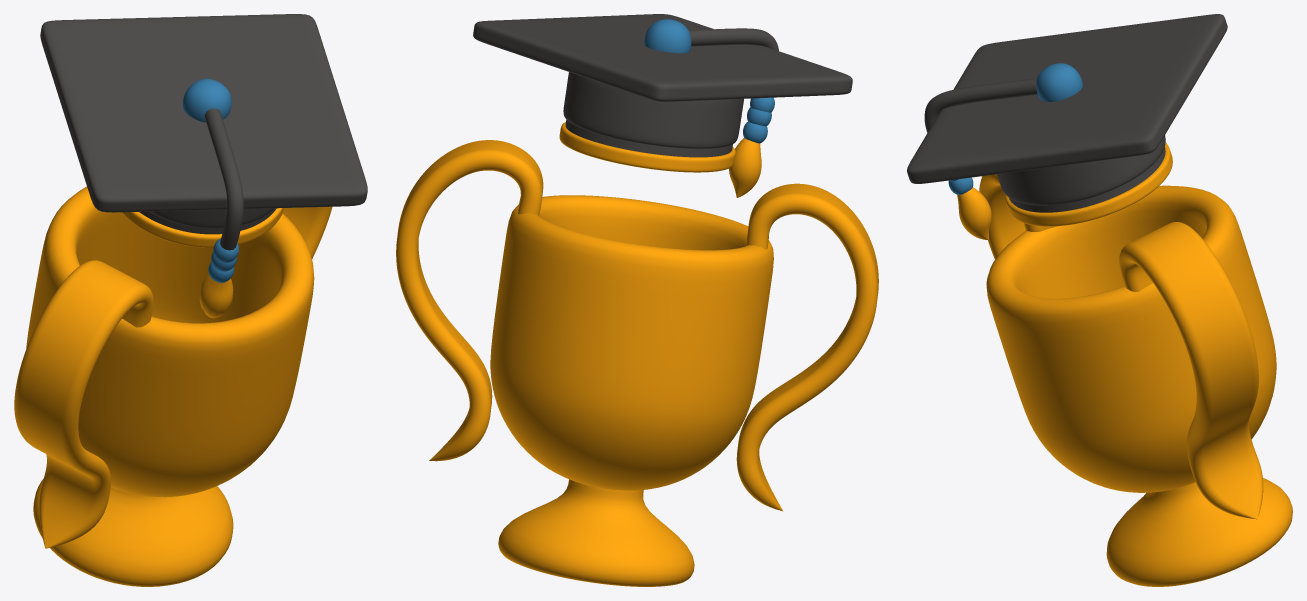
File: Graduatin Trophy.glb
3 views of the same model, side by side, from view 1: azimuth 30°, elevation 25°; view 2: azimuth 150°, elevation 25°; view 3: azimuth 270°, elevation 25° (orthographic). The views are drawn at different scales.
Visible parts, largest first — view 1: Circle.035, Plane.025, NurbsPath.012, Circle.036, NurbsPath.027, Circle.050, Cube.128, Circle.049, NurbsPath.028, Circle.048; view 2: Circle.035, NurbsPath.012, Plane.025, Circle.036, Circle.049, Circle.050, Circle.048, NurbsPath.027, NurbsPath.028, Cube.128; view 3: Circle.035, Plane.025, NurbsPath.012, Circle.036, Circle.049, Circle.050, NurbsPath.027, Cube.128, NurbsPath.028, Circle.048.
Part boxes in pixels (x1,y1,x2,y2): Circle.035: (26, 186, 314, 497); Plane.025: (40, 14, 367, 212); NurbsPath.012: (14, 206, 332, 548); Circle.036: (33, 478, 233, 586); NurbsPath.027: (204, 108, 243, 250); Circle.050: (121, 208, 284, 247); Cube.128: (182, 78, 231, 122); Circle.049: (149, 208, 274, 228); NurbsPath.028: (199, 275, 233, 318); Circle.048: (139, 208, 276, 234); Circle.035: (490, 195, 773, 490); NurbsPath.012: (396, 140, 878, 511); Plane.025: (473, 14, 852, 101); Circle.036: (498, 479, 694, 586); Circle.049: (563, 72, 743, 148); Circle.050: (559, 122, 735, 172); Circle.048: (565, 119, 732, 157); NurbsPath.027: (688, 28, 778, 50); NurbsPath.028: (729, 138, 761, 197); Cube.128: (644, 19, 691, 53); Circle.035: (986, 185, 1276, 492); Plane.025: (907, 14, 1227, 183); NurbsPath.012: (979, 174, 1263, 519); Circle.036: (1106, 478, 1292, 586); Circle.049: (997, 135, 1165, 205); Circle.050: (1005, 142, 1172, 226); NurbsPath.027: (924, 78, 1037, 132); Cube.128: (1036, 63, 1082, 101); NurbsPath.028: (957, 187, 991, 240); Circle.048: (1009, 147, 1165, 212).
Bounding box in the file's own units: 1.87 × 2.41 × 1.63.
